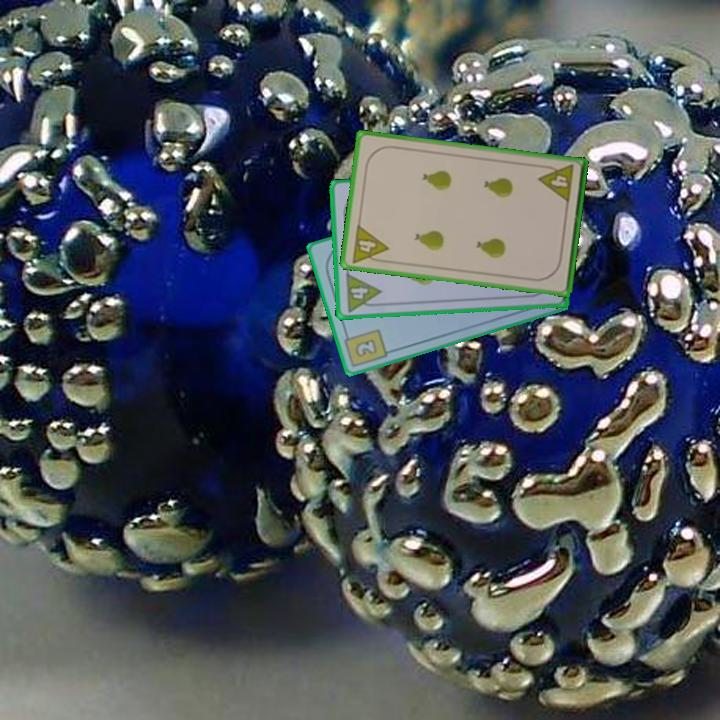2b: (340, 326, 390, 370)
4p: (348, 221, 391, 266), (342, 270, 384, 315), (535, 161, 577, 206)
